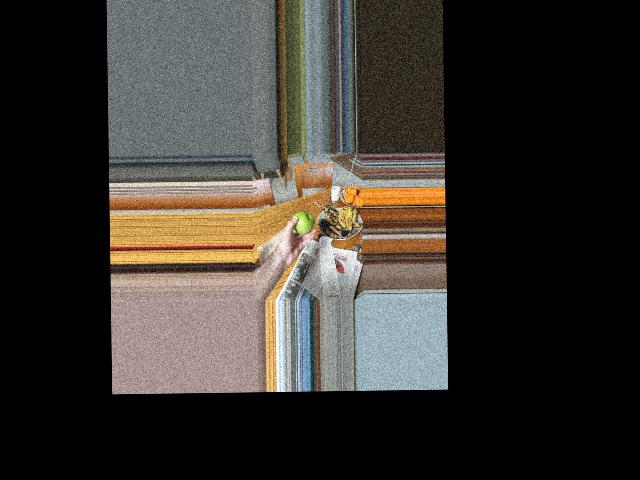apple: (290, 211, 314, 236)
